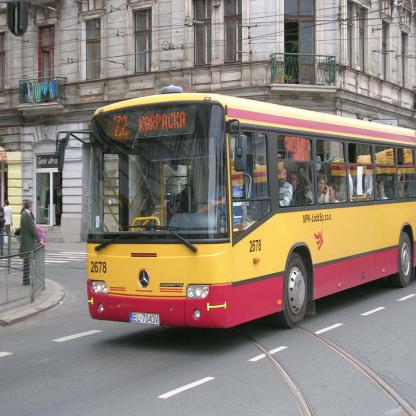Bus: (86, 92, 416, 330)
